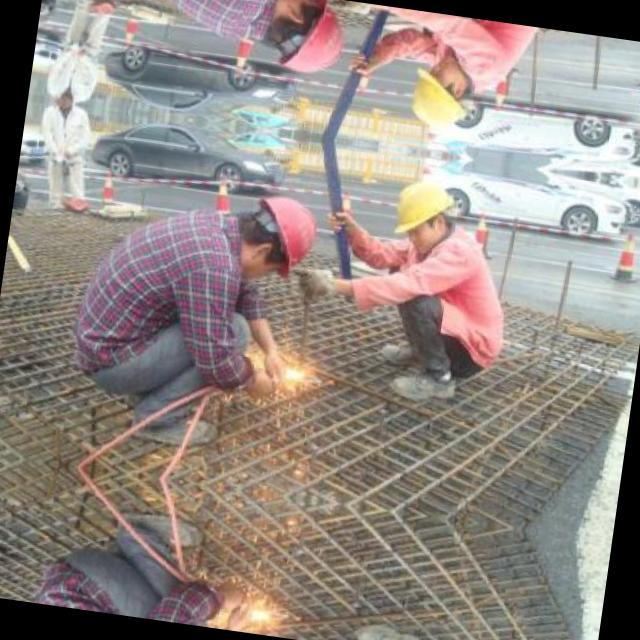helmet: (226, 186, 324, 277), (380, 170, 476, 261), (398, 48, 492, 139), (253, 0, 351, 82)
